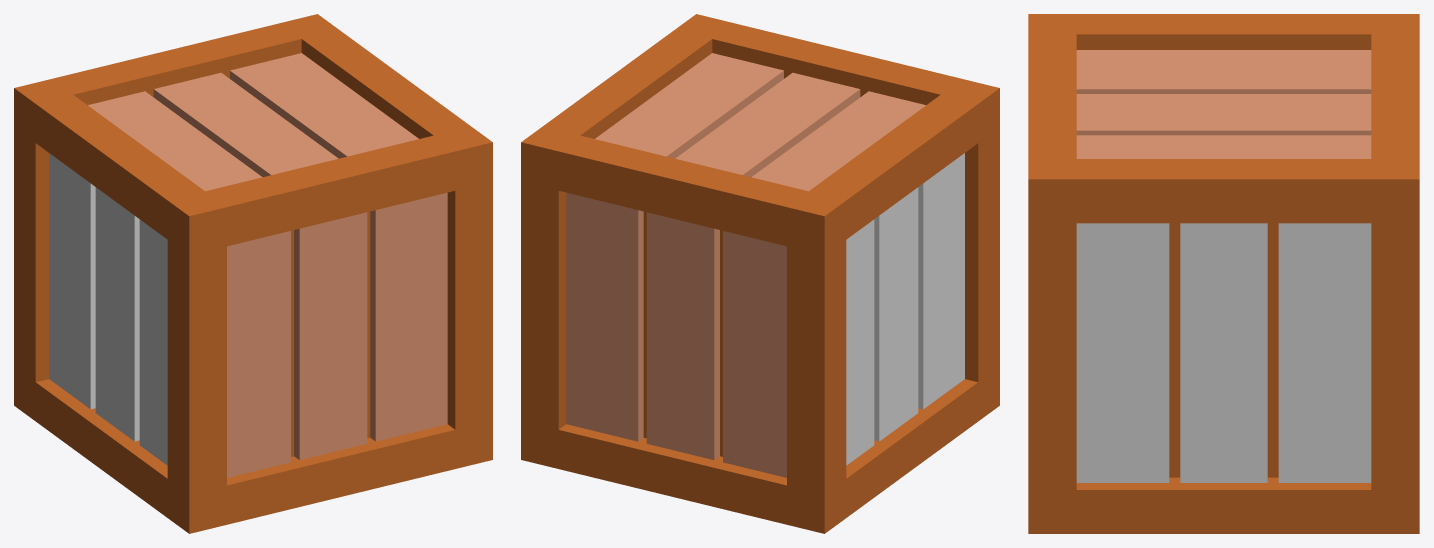
File: cratebox.fbx
3 renders of one model, left to right at view 1: azimuth 30°, elevation 25°; view 2: azimuth 150°, elevation 25°; view 3: azimuth 270°, elevation 25°, orthographic. The views are drawn at different scales.
Visible parts, largest first — view 1: Cube, Cube.001, Cube.002, Cube.004; view 2: Cube, Cube.001, Cube.002, Cube.004; view 3: Cube, Cube.002, Cube.004.
Part boxes in pixels (x1,y1,x2,y2): Cube: (14, 14, 492, 533); Cube.001: (227, 192, 447, 477); Cube.002: (49, 153, 167, 465); Cube.004: (88, 53, 418, 191); Cube: (521, 14, 999, 533); Cube.001: (566, 192, 786, 477); Cube.002: (846, 153, 964, 465); Cube.004: (595, 53, 925, 191); Cube: (1028, 14, 1419, 533); Cube.002: (1076, 223, 1371, 482); Cube.004: (1076, 50, 1371, 158).
Bounding box in the file's own units: 200 × 200 × 200.
